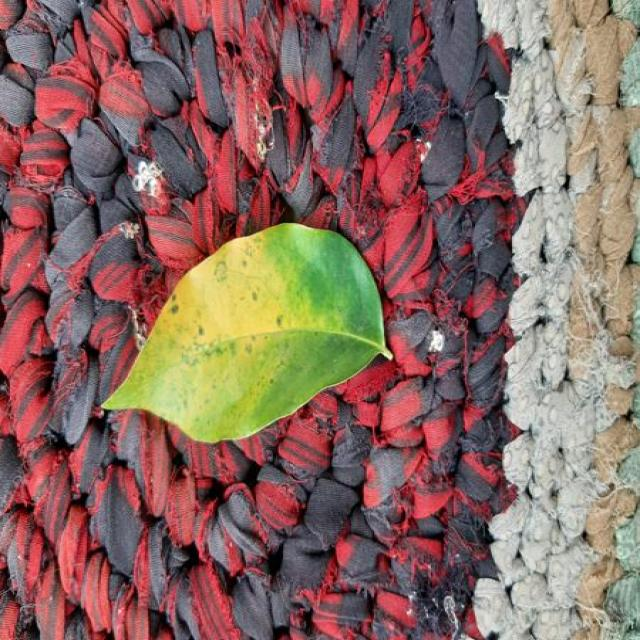amla: (103, 224, 392, 442), (47, 199, 203, 446), (102, 412, 187, 474)
disease in leaf: (105, 234, 290, 442)
disease inamla: (103, 225, 293, 442)
